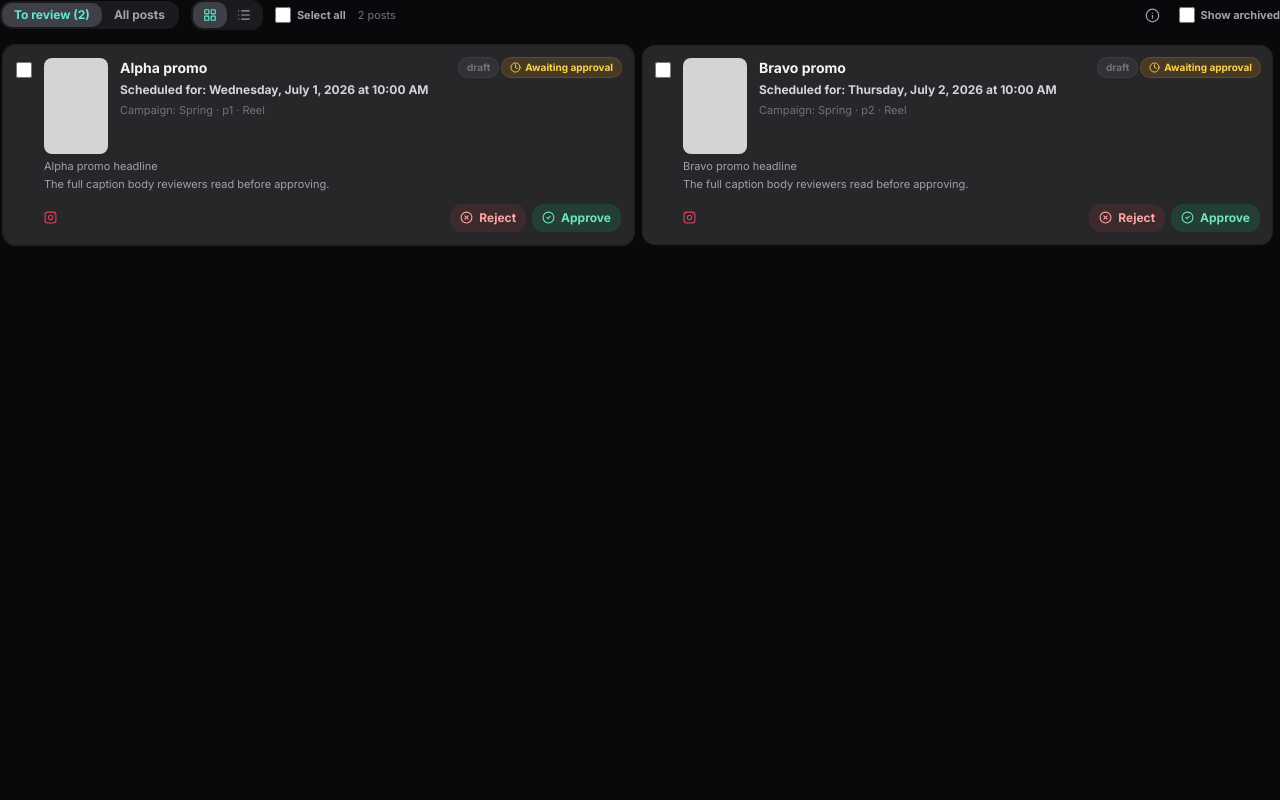
Freigaben compact density › exposes one keyboard-help info button (not a per-card eyebrow) explaining the shortcuts
This screenshot has width=1280, height=800.
Click the button named "Keyboard shortcuts" at (1153, 15), box [1139,1,1167,29]
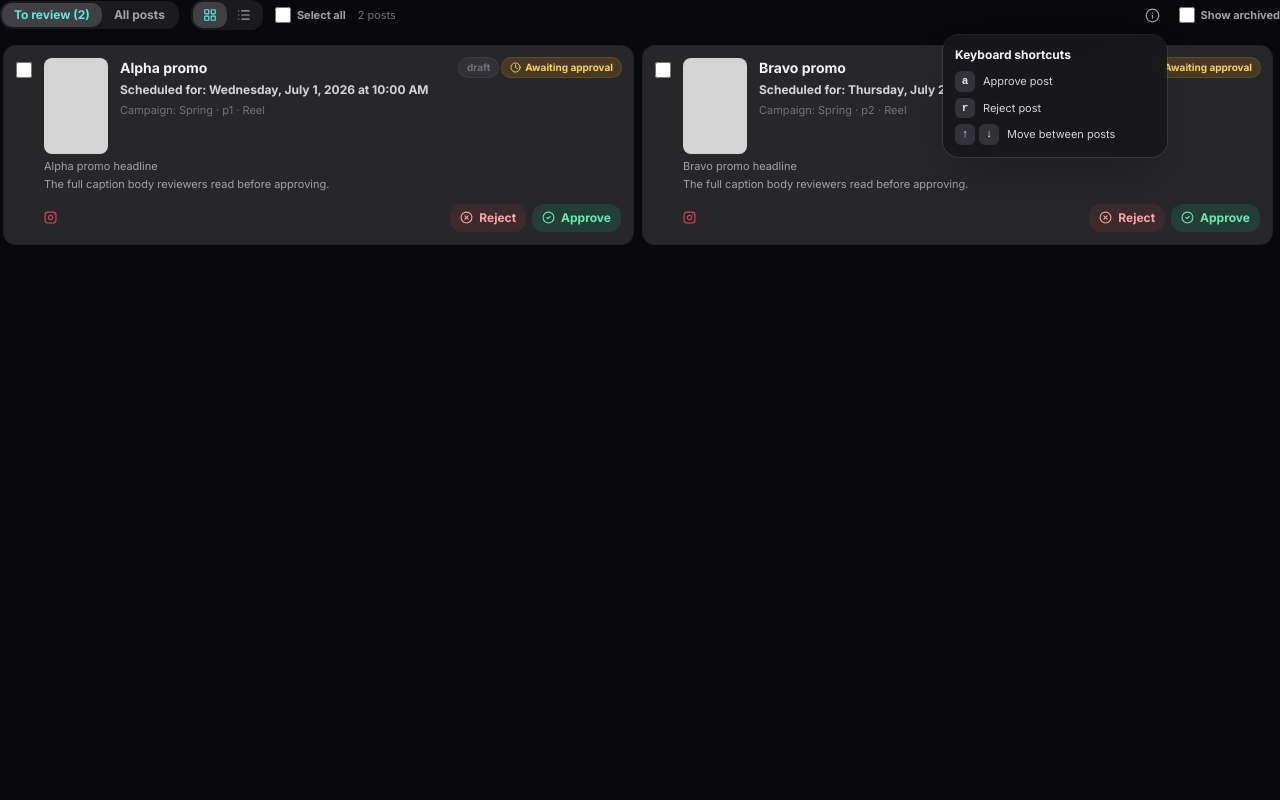
Result: the text "Approve post" is shown at [983,73,1053,90]
Result: the text "Reject post" is shown at [983,100,1041,116]
Result: the text "Move between posts" is shown at [1007,126,1115,142]
